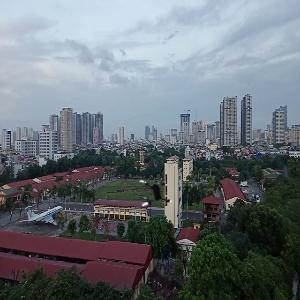drone: (134, 175, 175, 216)
